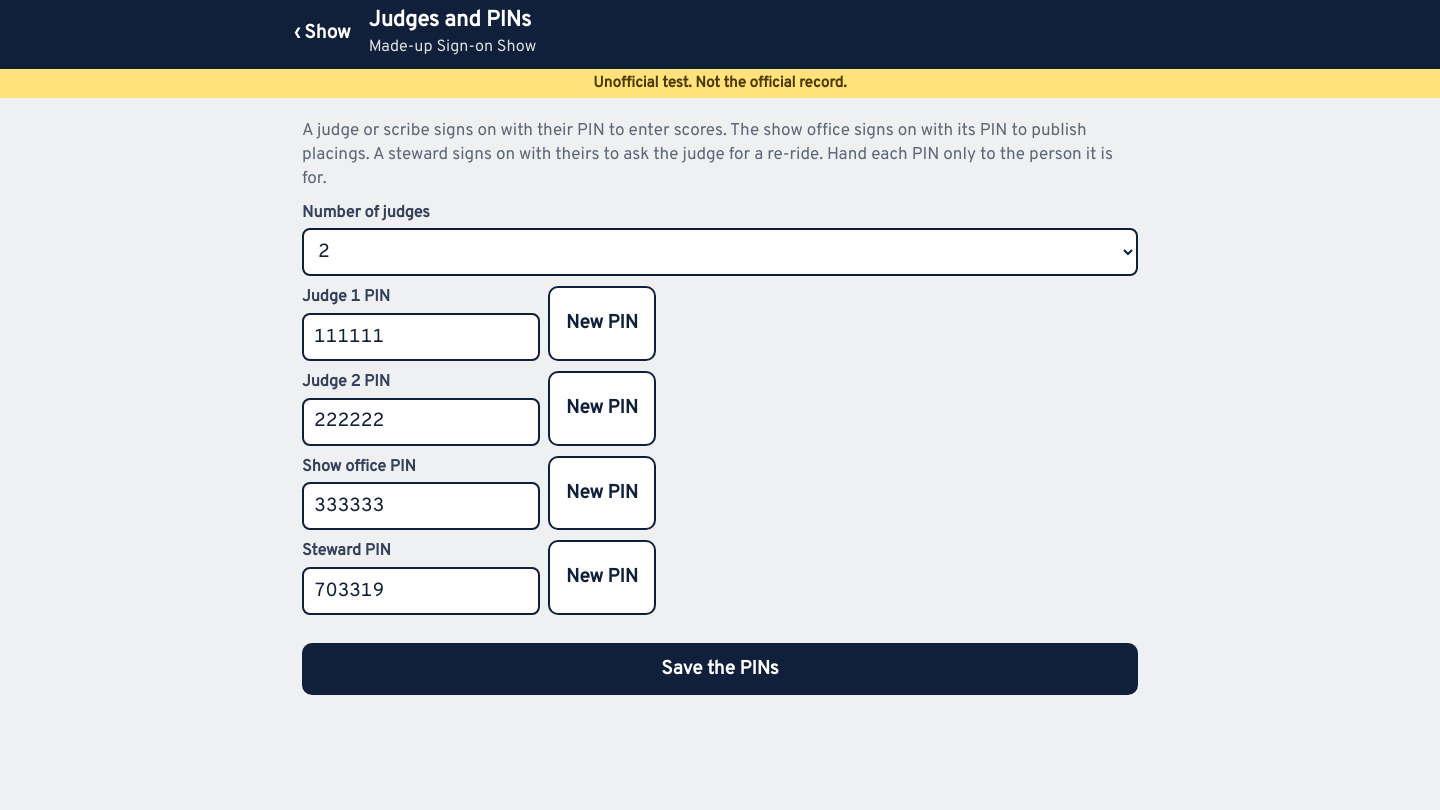
it: a show admin sets the judges and their PINs › refuses two seats with the same PIN
The image size is (1440, 810).
Replace the text in the field labelled "Judge 2 PIN" with "111111" at x=421, y=422, box [302,398,540,446]
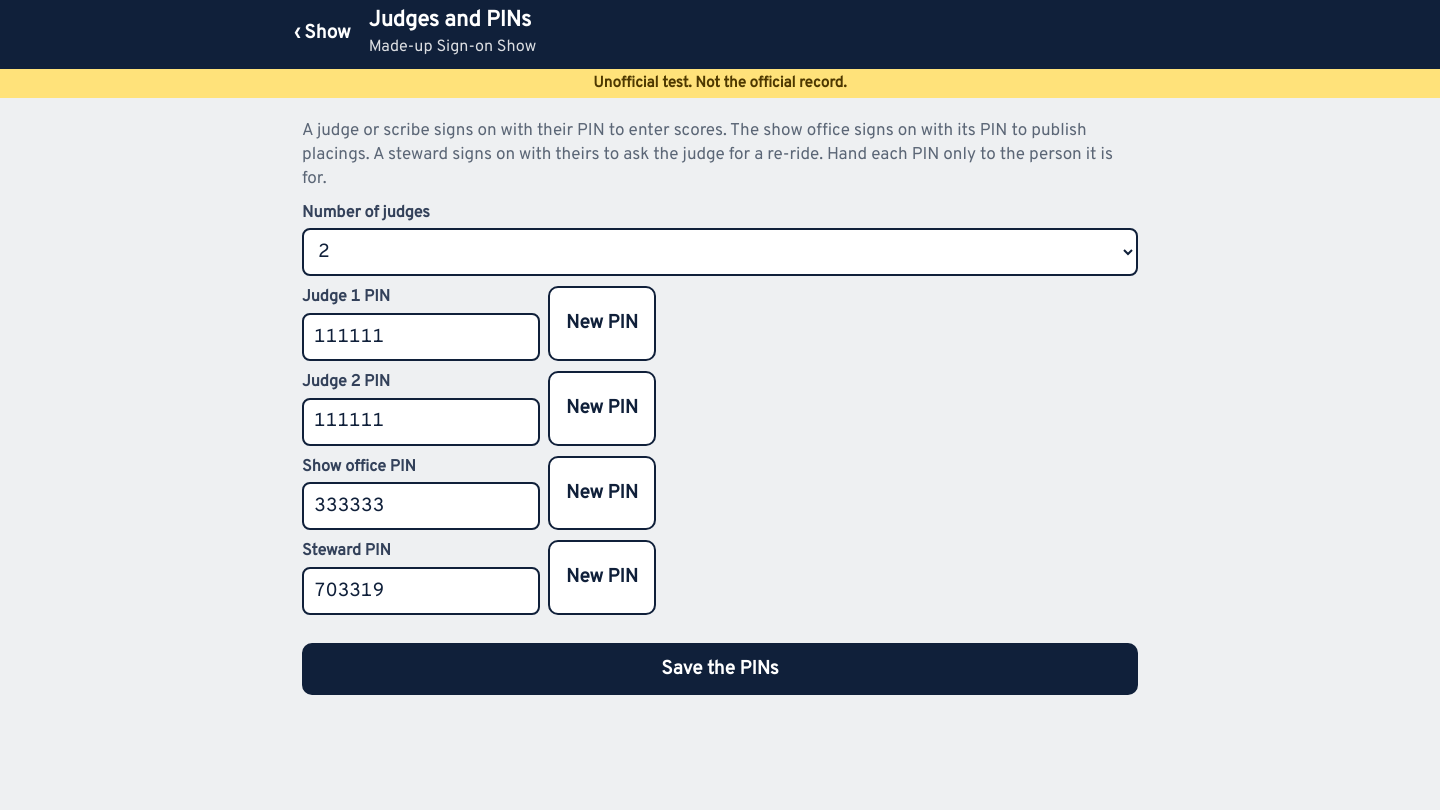
Click the button "Save the PINs" at x=720, y=669, box [302,643,1138,695]
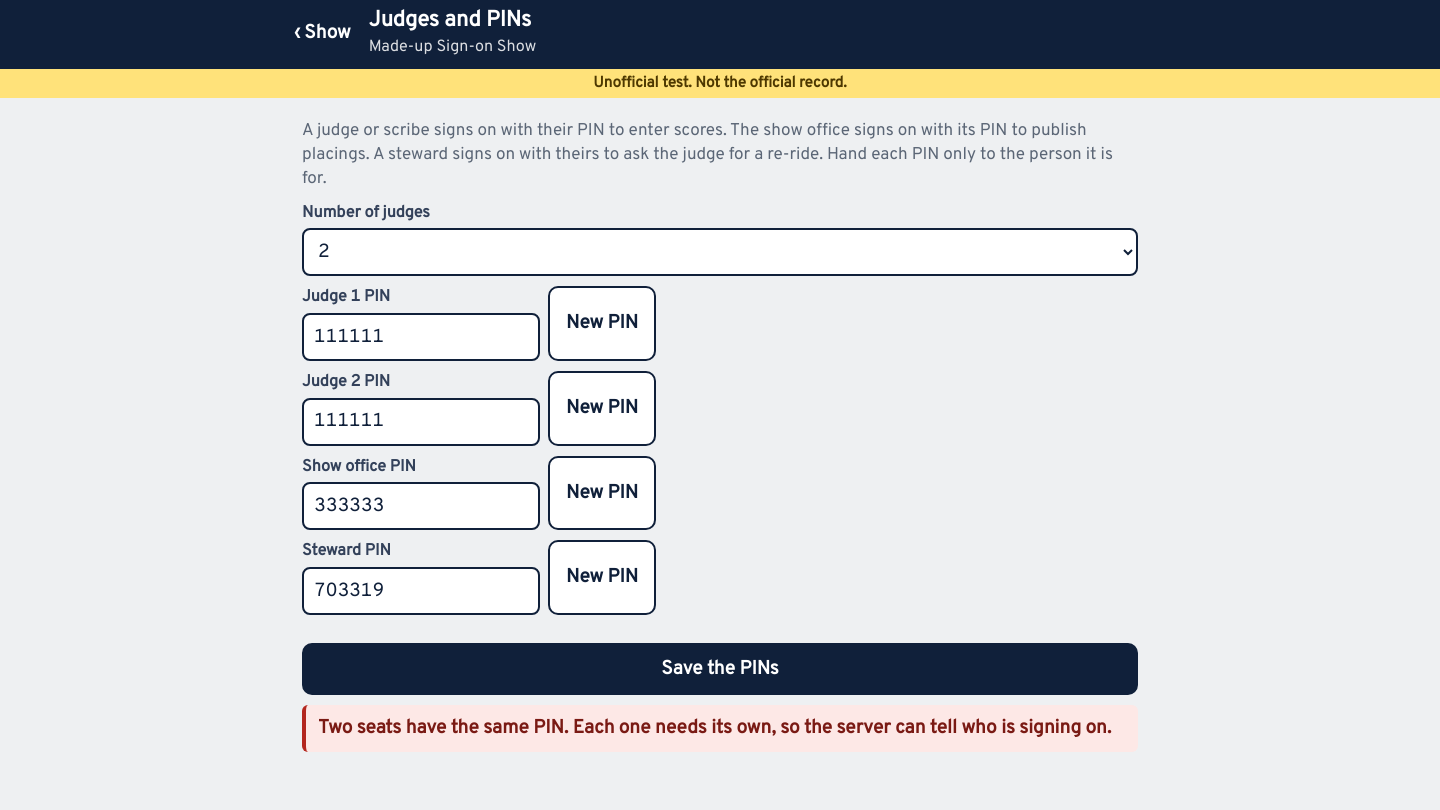
Check: the message shows "same PIN", box [318,716,1111,740]
